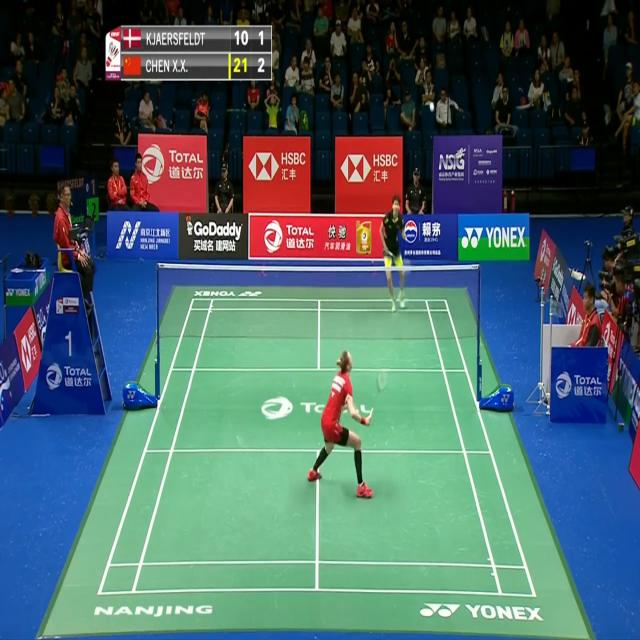Player1: (306, 344, 378, 504)
Player2: (376, 193, 416, 315)
